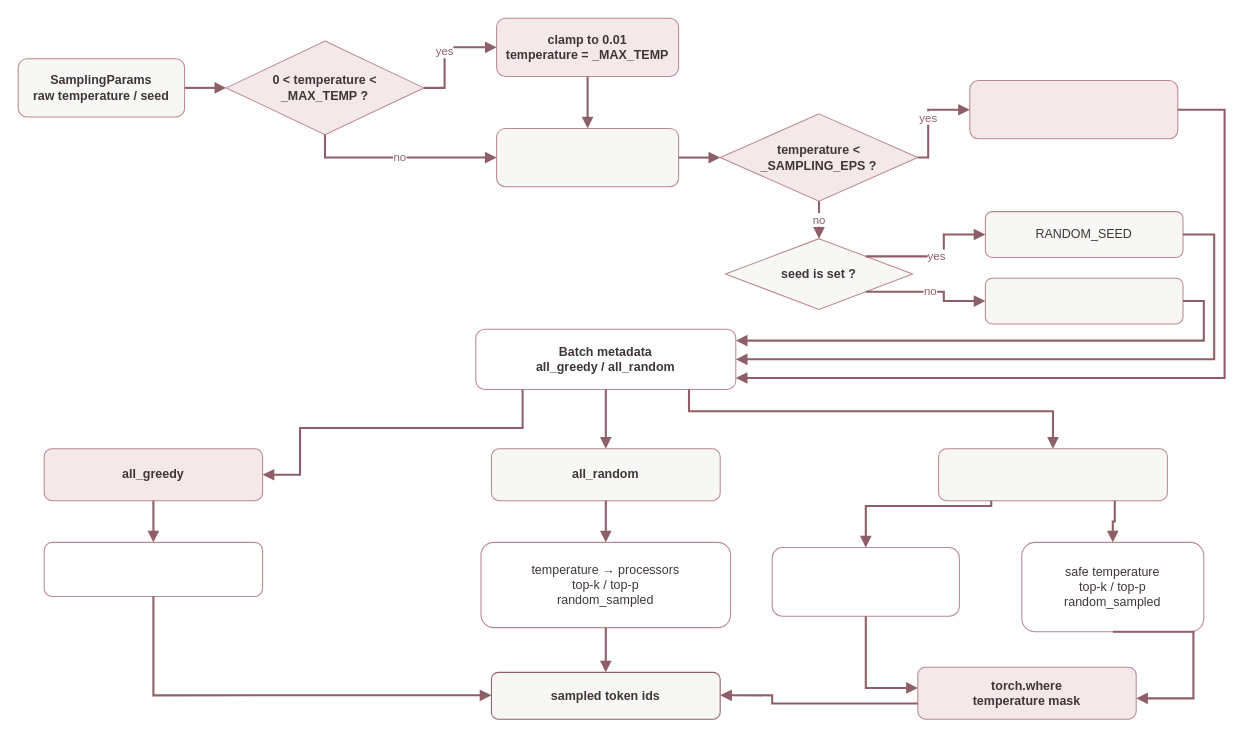
Image size: 1252x737. Some labels were removed from this diagram. Here are the shapes that lost their labels. From the top down, the centre of each, then its label:
[1073,109]: GREEDY normalize top-k / top-p
[587,157]: _verify_args temperature < 0 → error
[1083,300]: RANDOM
[1052,474]: mixed batch
[153,568]: argmax
[865,581]: greedy_sampled argmax
